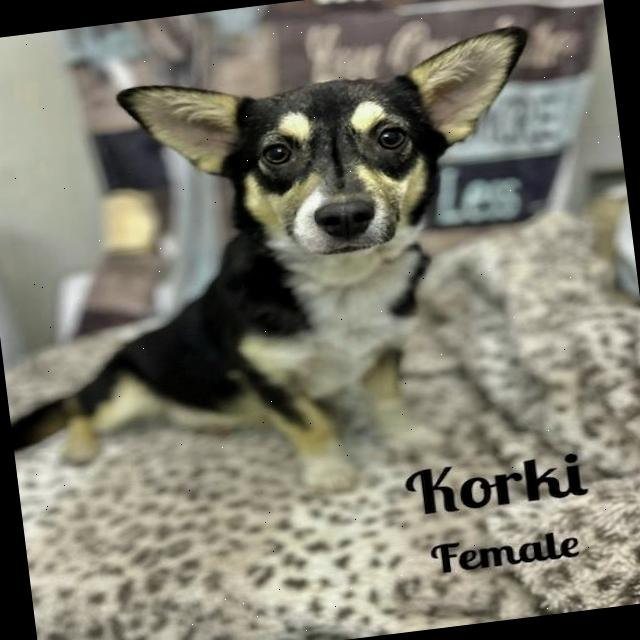corgi_dog: (105, 12, 557, 292)
